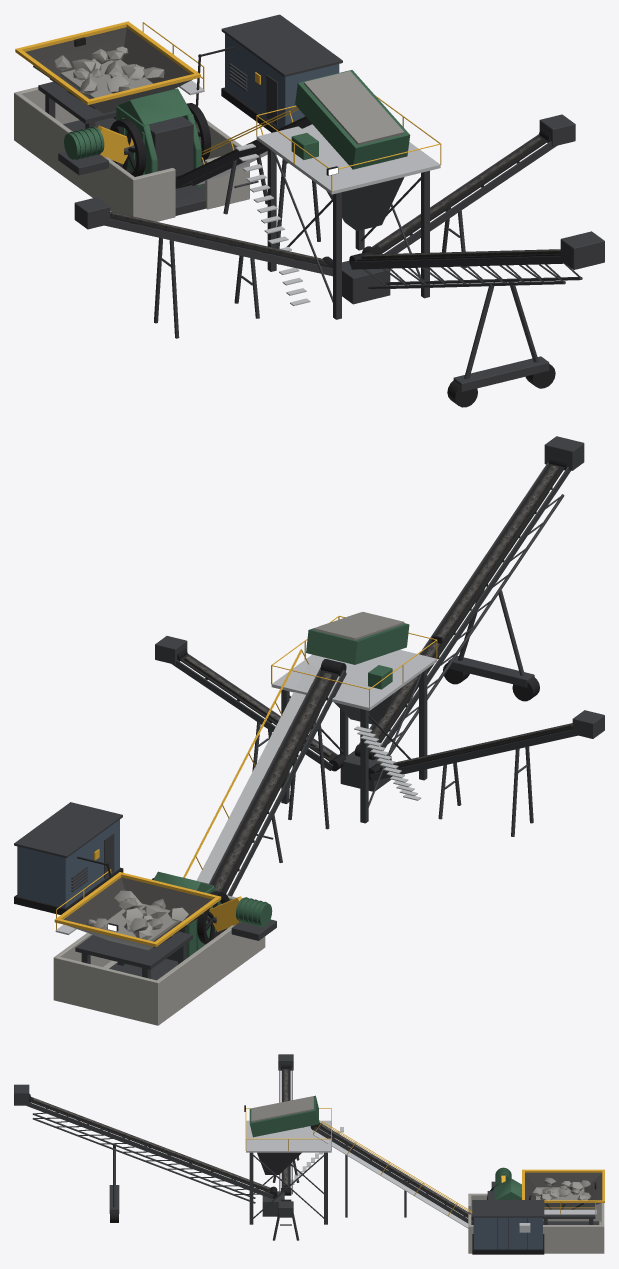
File: crusher_plant.glb
3 views of the same model, one above another, from view 1: azimuth 30°, elevation 25°; view 2: azimuth 150°, elevation 25°; view 3: azimuth 270°, elevation 25° (orthographic). The views are drawn at different scales.
Visible parts, largest first — view 1: Body_LOD0, ScreenBox_LOD0, FlywheelRight_LOD0, FlywheelLeft_LOD0; view 2: Body_LOD0, ScreenBox_LOD0; view 3: Body_LOD0, ScreenBox_LOD0.
Boxes of the visible parts, box(x1,y1,x2,y2) form: Body_LOD0: box(14, 14, 604, 407); ScreenBox_LOD0: box(295, 70, 410, 169); FlywheelRight_LOD0: box(110, 119, 146, 176); FlywheelLeft_LOD0: box(187, 103, 211, 161); Body_LOD0: box(14, 436, 604, 1025); ScreenBox_LOD0: box(306, 612, 409, 664); Body_LOD0: box(14, 1054, 604, 1254); ScreenBox_LOD0: box(249, 1095, 318, 1137).
Bounding box in the file's own units: 32.62 × 16.69 × 59.92.
Materials: 13 (1 with a texture image).
